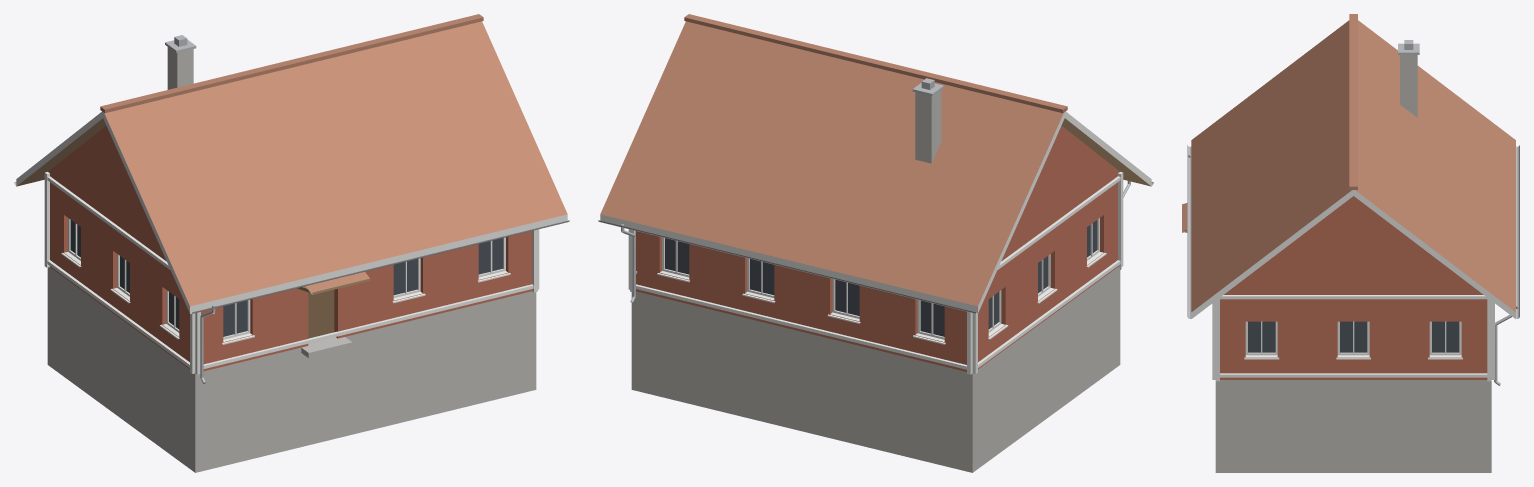
The model's file is nordic_house_1_m.glb.
3 renders of one model, left to right at view 1: azimuth 30°, elevation 25°; view 2: azimuth 150°, elevation 25°; view 3: azimuth 270°, elevation 25°, orthographic. The views are drawn at different scales.
Visible parts, largest first — view 1: nordic_house_1_m; view 2: nordic_house_1_m; view 3: nordic_house_1_m.
Part boxes in pixels (box(x1,y1,x2,y2)): nordic_house_1_m: box(14, 14, 569, 472); nordic_house_1_m: box(598, 14, 1153, 472); nordic_house_1_m: box(1182, 14, 1519, 472).
Size of the model in its own units: 13.34 by 11.38 by 11.03.
